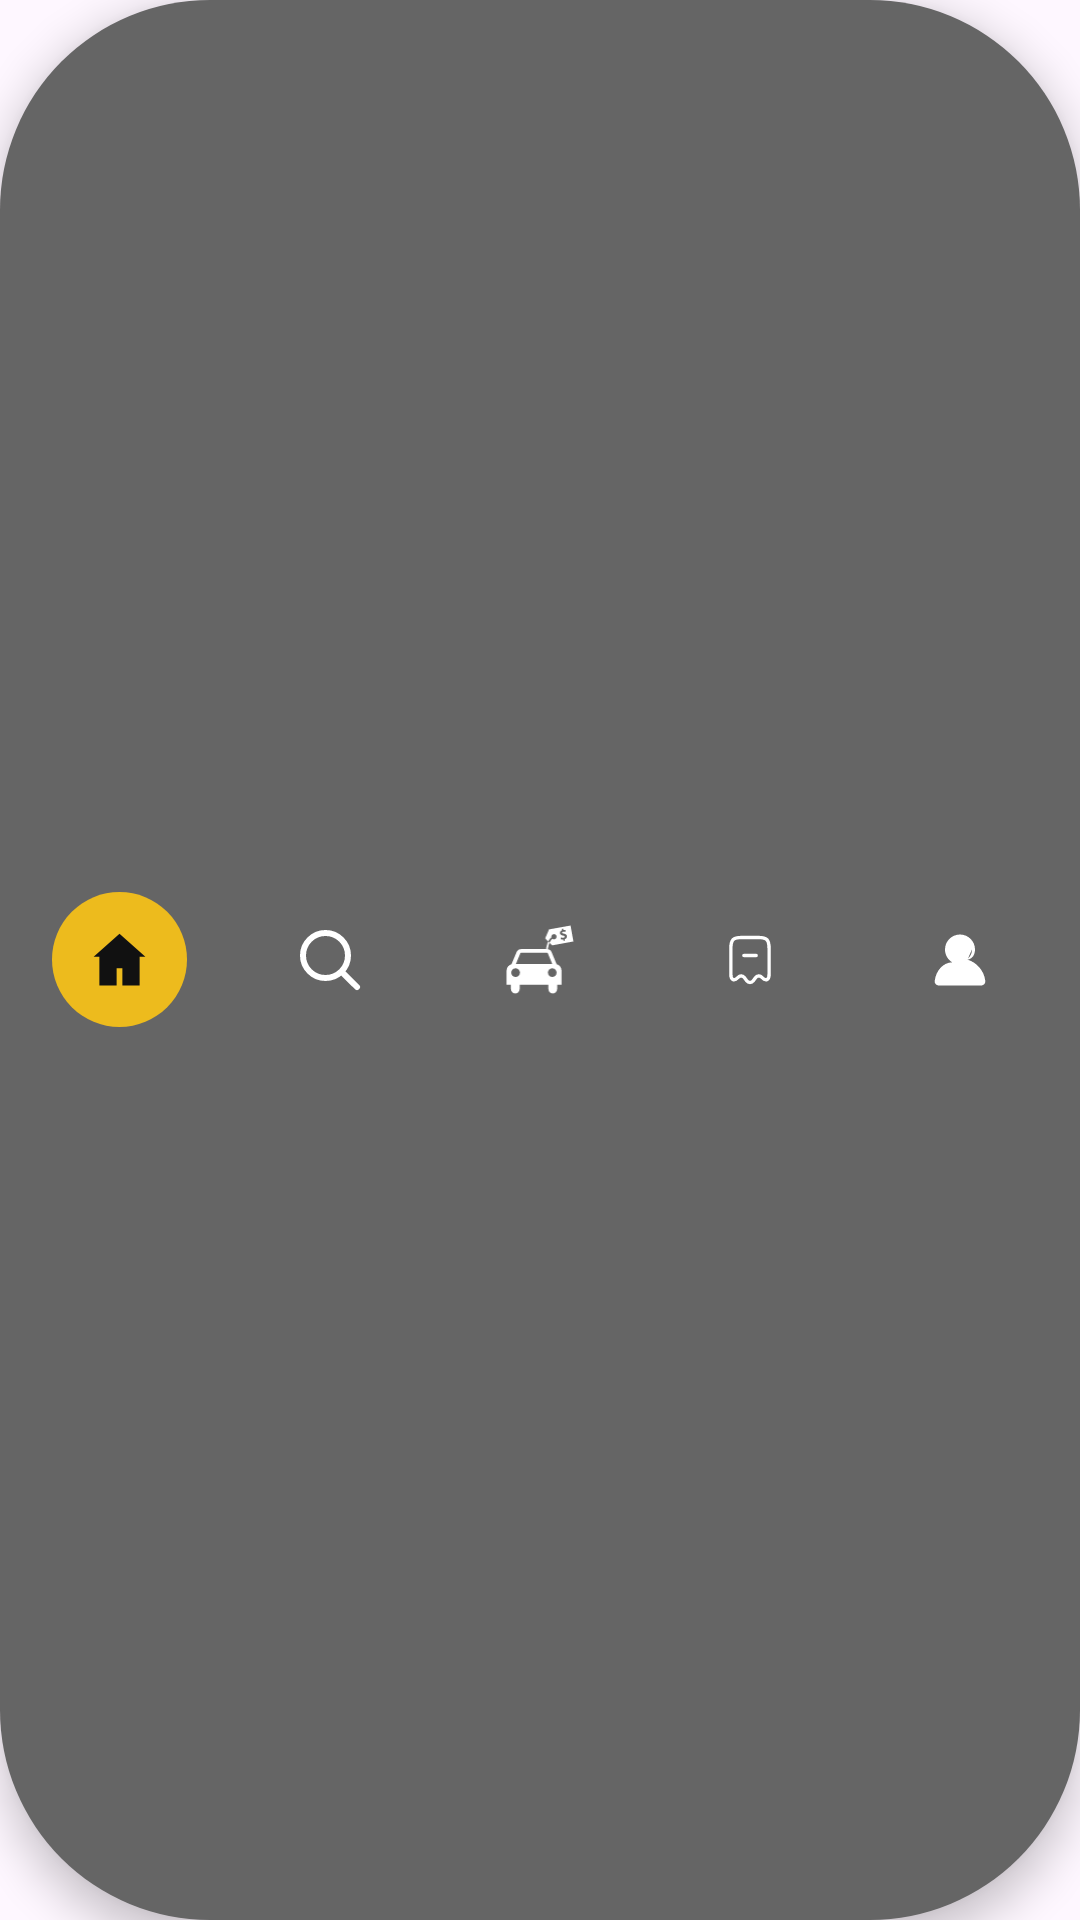

Icons on this 1080 × 1920 Android screen, each with its box as box=[x1, y1, x2, y2]:
home: box=[52, 892, 187, 1027]
profile: box=[934, 934, 986, 986]
search: box=[300, 930, 360, 990]
sell: box=[506, 925, 574, 994]
transaction: box=[729, 935, 771, 984]
